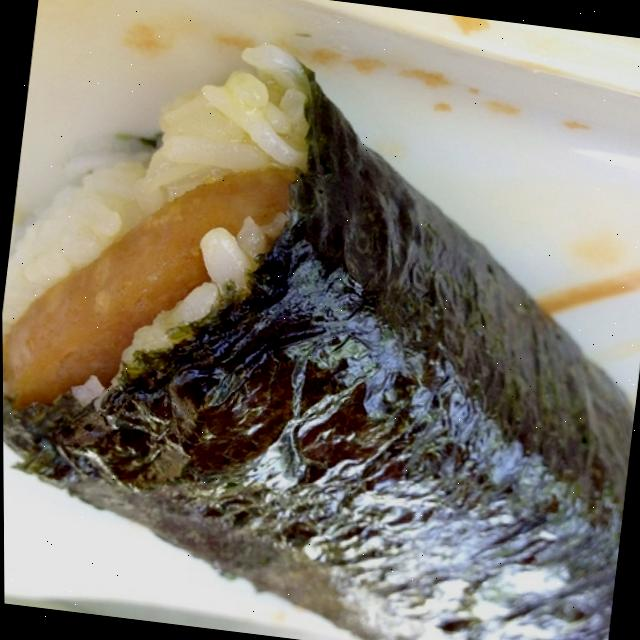寿司卷物: (0, 29, 640, 640)
